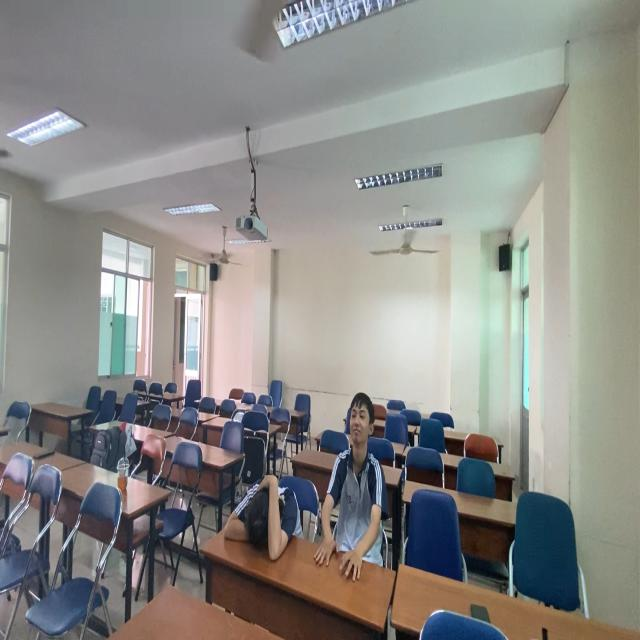sleep: (222, 470, 314, 563)
